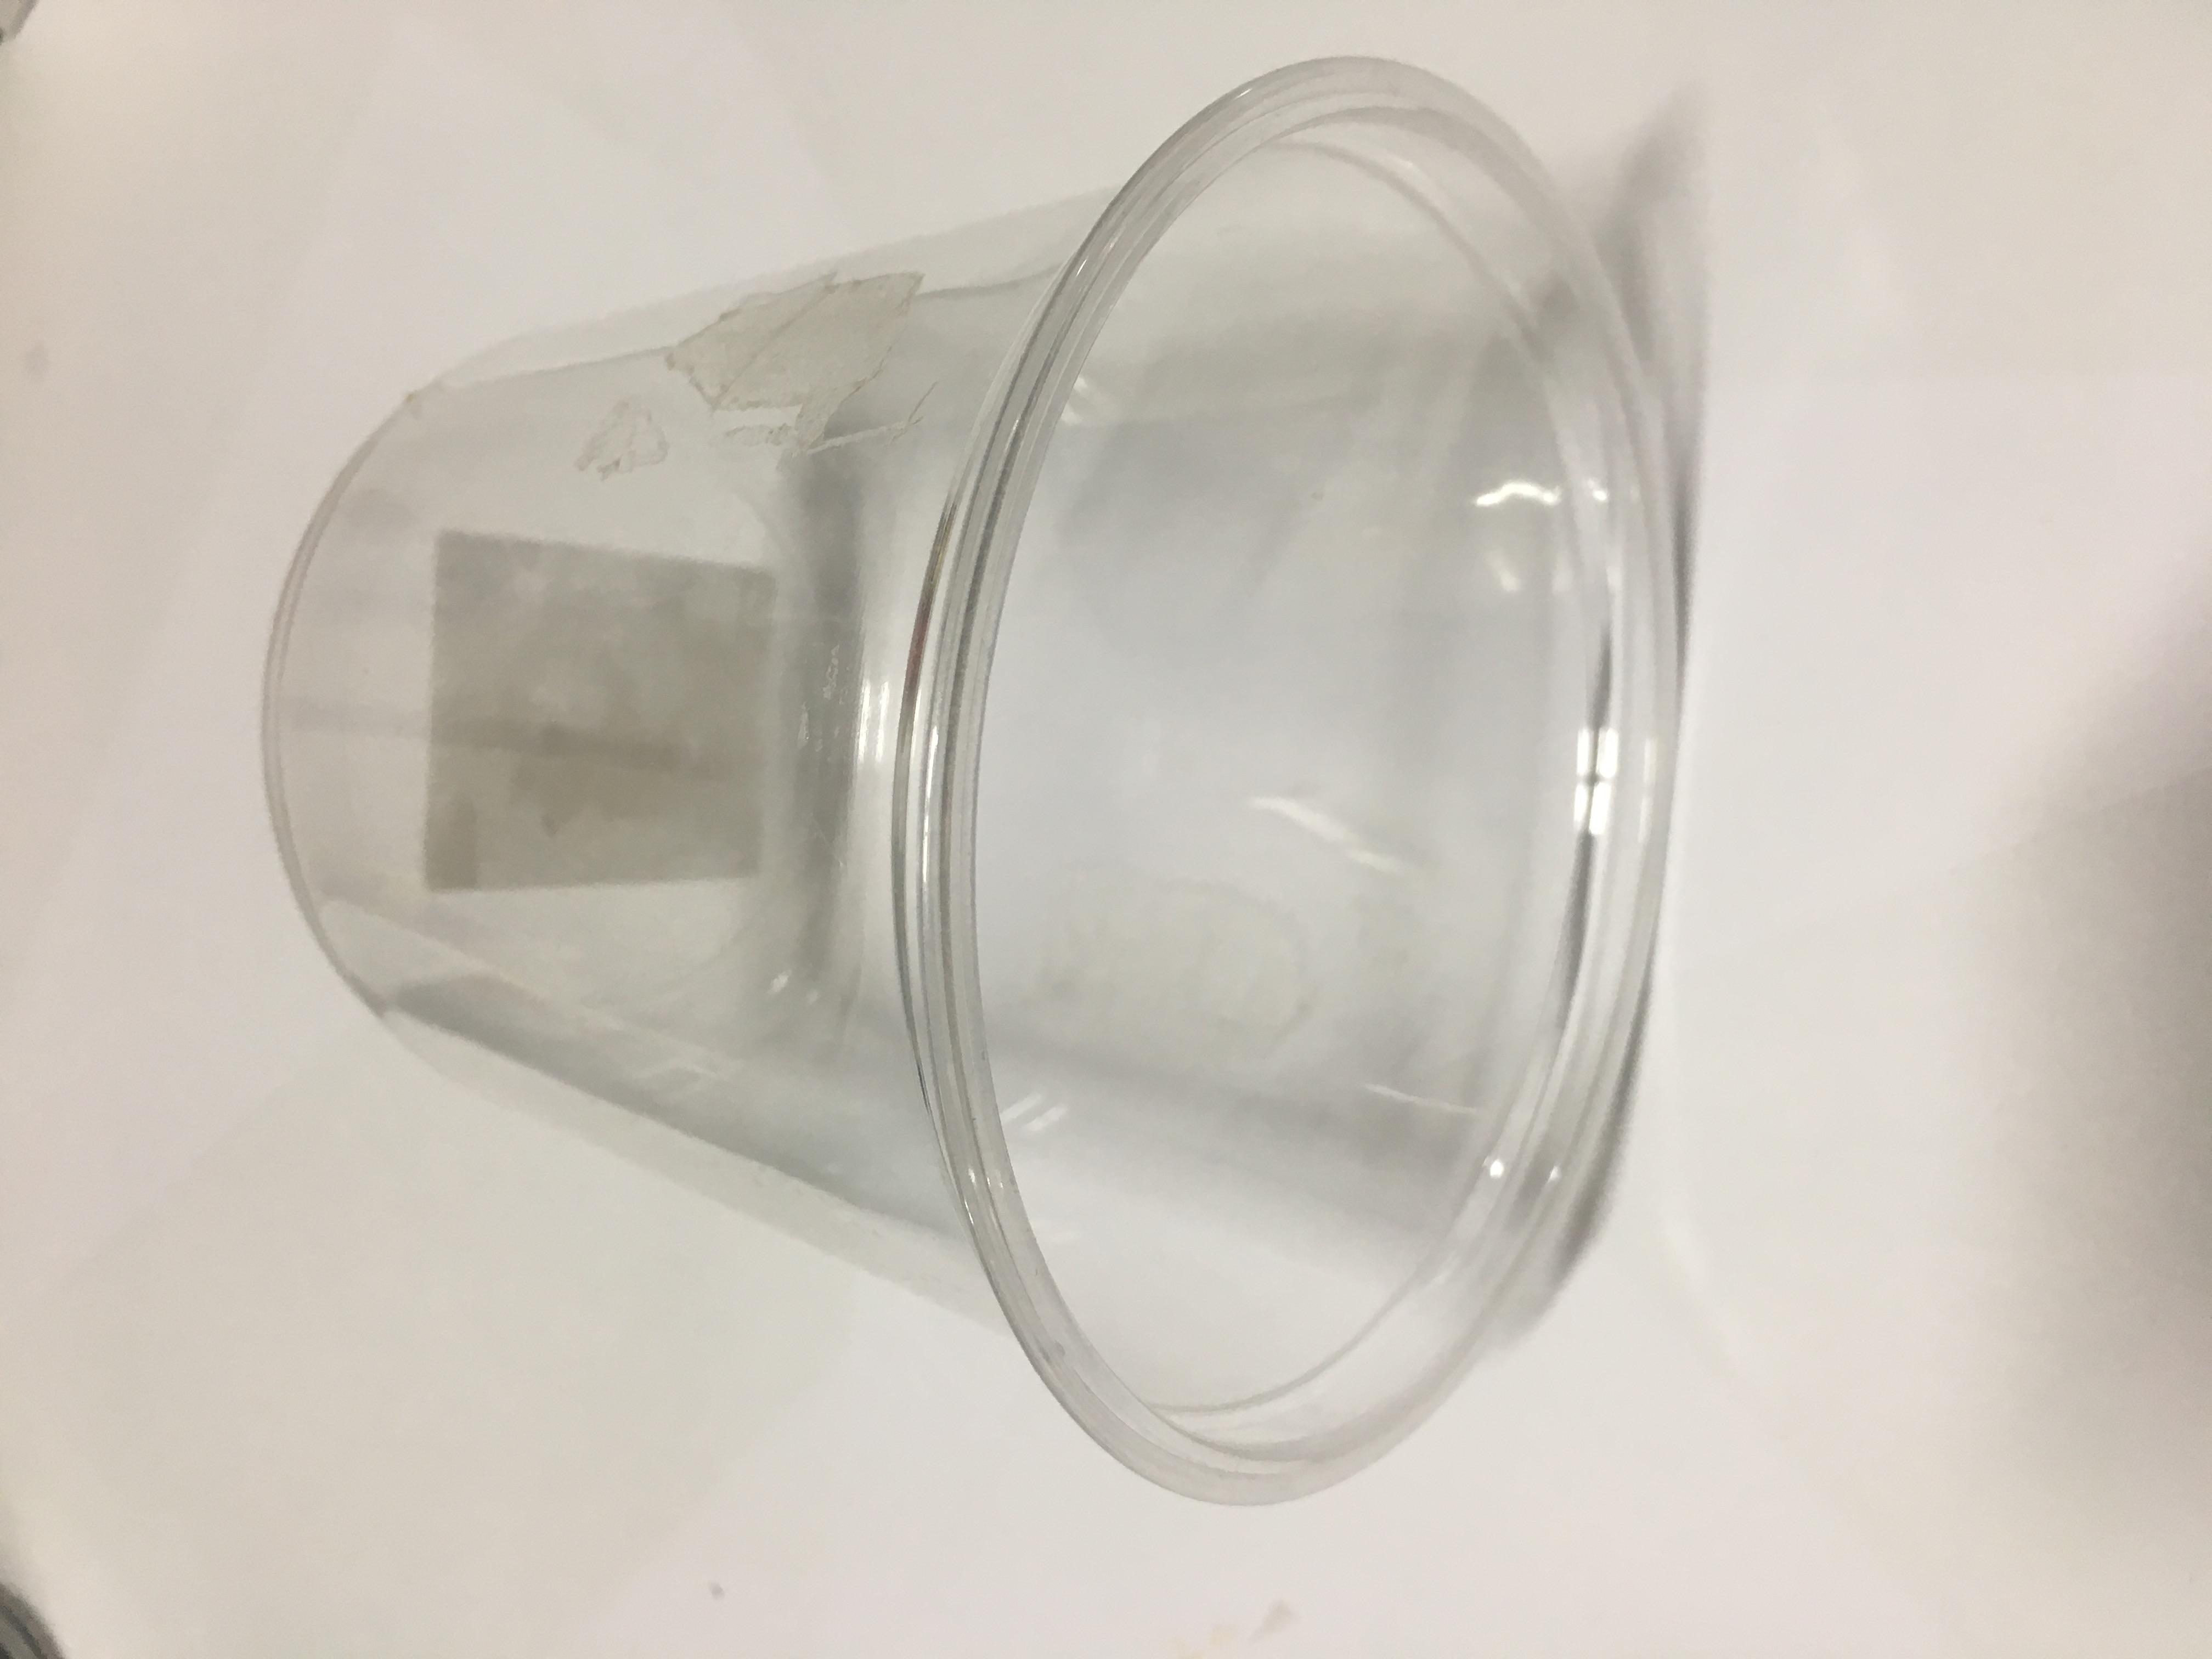bottle: (141, 169, 2156, 1283)
